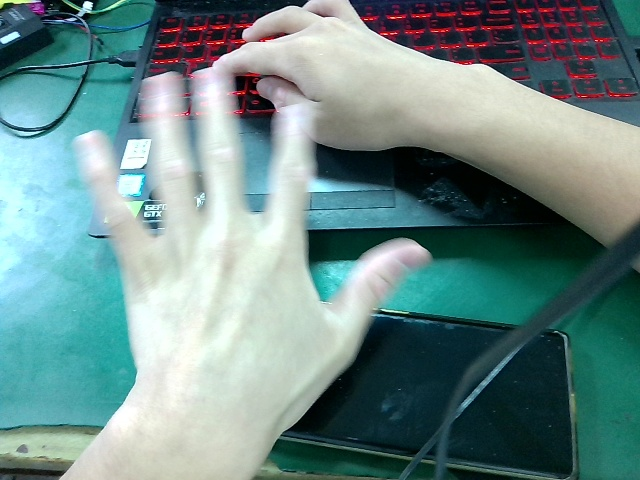paper: (60, 52, 429, 471)
